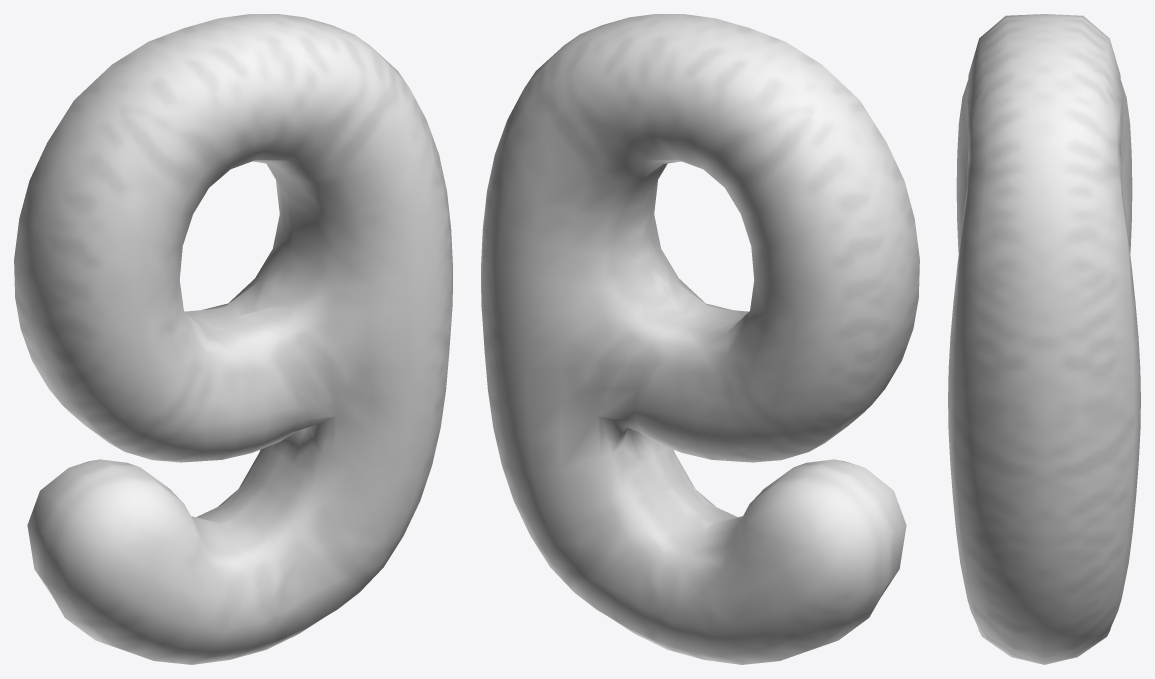
Rendered from LettersBalloon01_9.FBX.
3 renders of one model, left to right at view 1: azimuth 30°, elevation 25°; view 2: azimuth 150°, elevation 25°; view 3: azimuth 270°, elevation 25°, orthographic. The views are drawn at different scales.
Visible parts, largest first — view 1: LettersBalloon01_9; view 2: LettersBalloon01_9; view 3: LettersBalloon01_9.
Boxes of the visible parts, bbox=[...] form: LettersBalloon01_9: bbox=[14, 14, 452, 664]; LettersBalloon01_9: bbox=[481, 14, 919, 664]; LettersBalloon01_9: bbox=[948, 14, 1140, 664].
Size of what is drawn, in the model's own units: 0.3376 by 0.4818 by 0.1396.
